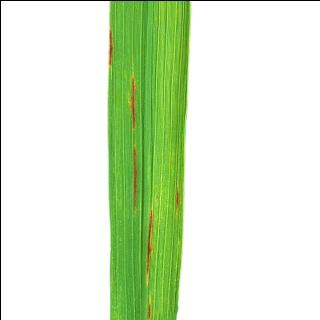Bercak-Cokelat-Sempit: (141, 200, 158, 286), (128, 136, 141, 222), (126, 68, 139, 135), (170, 180, 188, 216), (138, 290, 158, 320), (106, 20, 114, 70)
